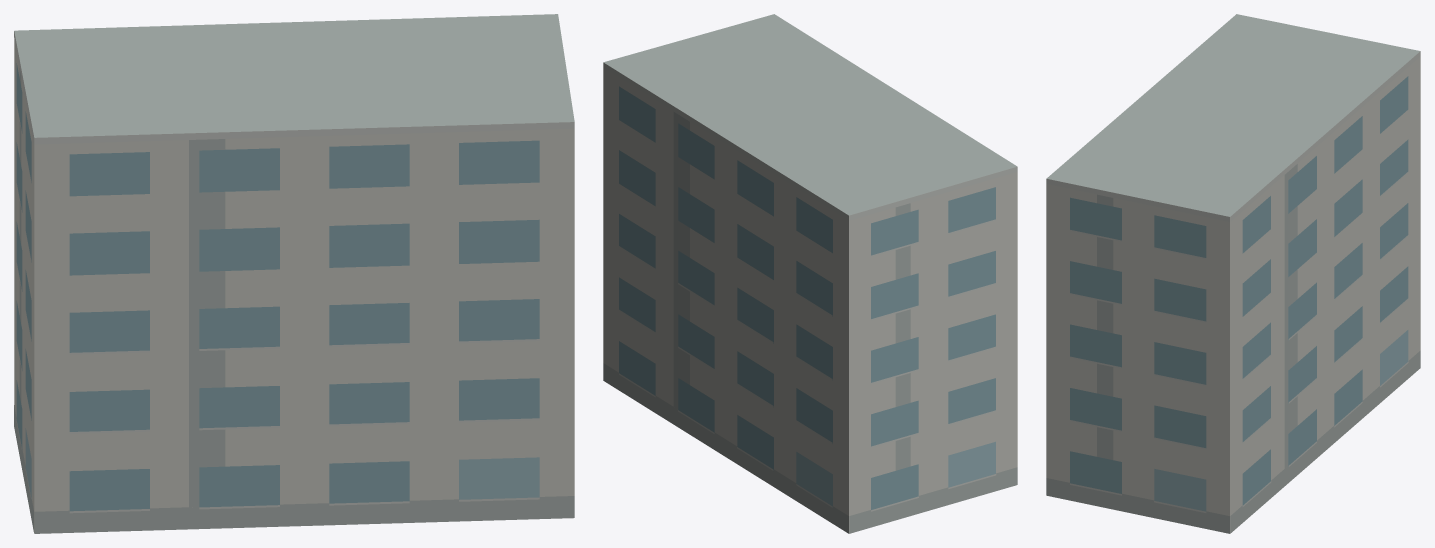
File: survey-upis-32881854.glb
The picture shows the model from 3 angles, left to right: view 1: azimuth 30°, elevation 25°; view 2: azimuth 150°, elevation 25°; view 3: azimuth 270°, elevation 25°; orthographic projection. The views are drawn at different scales.
Parts seen in each view (by area): view 1: survey-upis-32881854.tmp; view 2: survey-upis-32881854.tmp; view 3: survey-upis-32881854.tmp.
Part boxes in pixels (x1,y1,x2,y2): survey-upis-32881854.tmp: [14, 14, 574, 533]; survey-upis-32881854.tmp: [603, 14, 1017, 533]; survey-upis-32881854.tmp: [1046, 14, 1420, 533].
Bounding box in the file's own units: 19.79 × 14.4 × 15.42.
